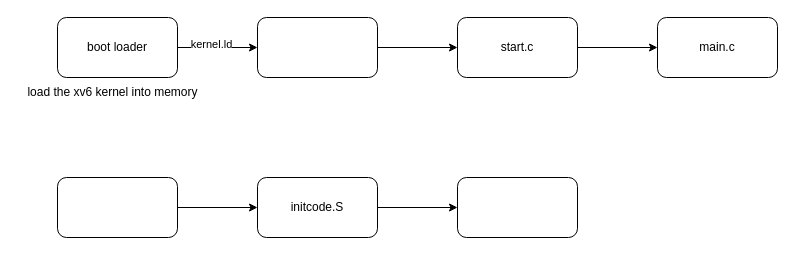
Some shapes in this 795 by 255 pixel diagram are drawn without their labels. The centre of each missing label's shape, as x and y in pixels:
"entry.S" belongs at point 317,47.
"userinit (kernel/proc.c)" belongs at point 117,207.
